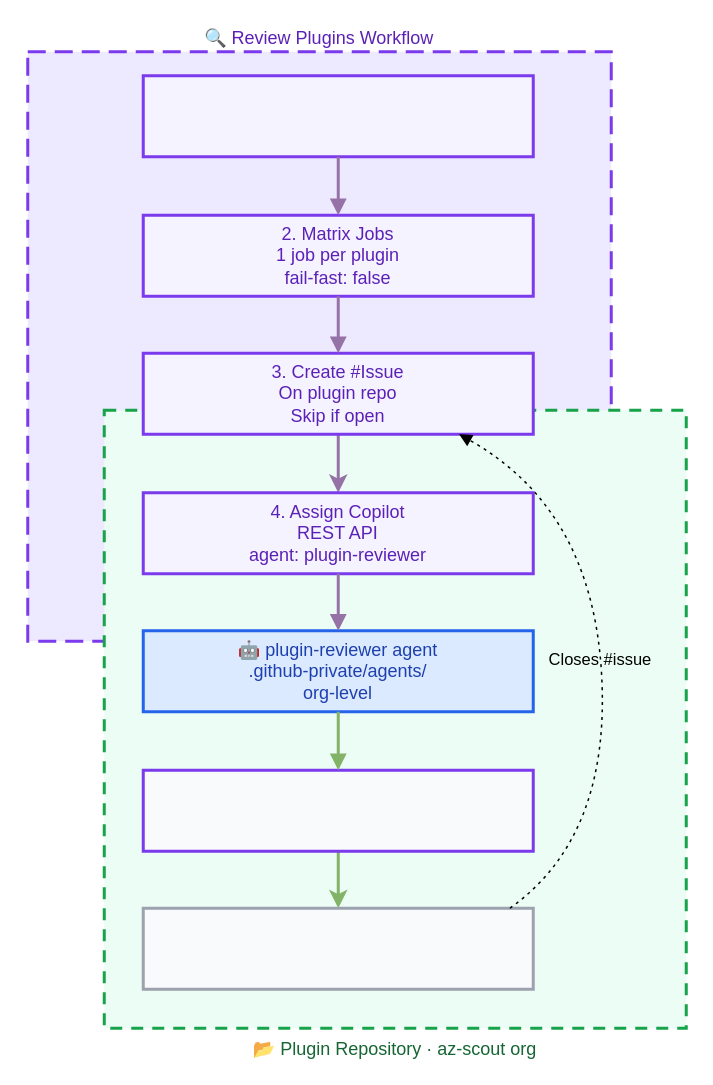
Image size: 713x1085. Some labels were removed from this diagram. Here are the shapes that lost their labels. From the top down, the centre of each, then its label:
At point 337,116: "1. Discover catalog.json audit: true".
At point 337,810: "📝 Copilot Reviews Code Reads source Checks conventions".
At point 337,948: "📋 Findings & PR Comment on #issue Opens fixing PR".
